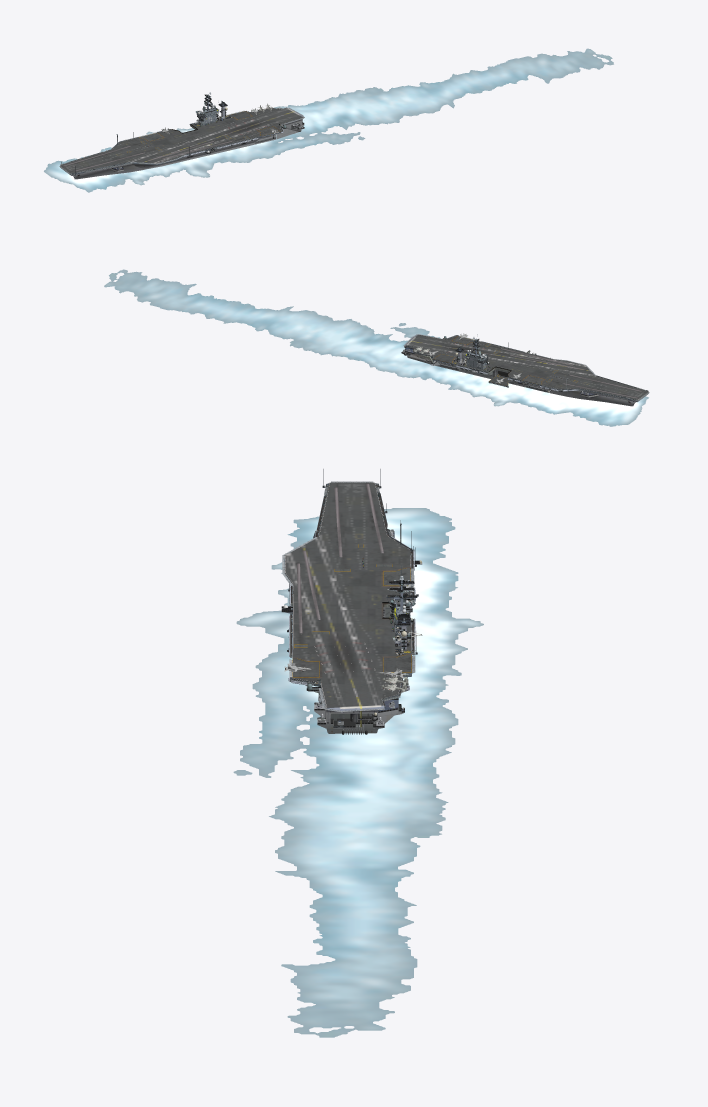
File: truman2.glb
The picture shows the model from 3 angles, top to bottom: view 1: azimuth 30°, elevation 25°; view 2: azimuth 150°, elevation 25°; view 3: azimuth 270°, elevation 25°; orthographic projection. The views are drawn at different scales.
Parts seen in each view (by area): view 1: Wake, Flightdeck.002, hull_2, hull_1, deck_n; view 2: Wake, Flightdeck.002, hull_1, hull_2, deck_n; view 3: Wake, Flightdeck.002, hull_3.
Boxes of the visible parts, x1,y1,x2,y2 form: Wake: (44,48,613,192); Flightdeck.002: (61,108,302,173); hull_2: (133,134,276,170); hull_1: (64,163,141,179); deck_n: (59,134,184,175); Wake: (104,269,648,426); Flightdeck.002: (406,334,647,399); hull_1: (566,390,646,406); hull_2: (404,350,566,396); deck_n: (540,359,649,401); Wake: (233,508,483,1037); Flightdeck.002: (285,482,411,707); hull_3: (306,599,413,734).
Size of the model in its own units: 872 by 68.21 by 169.
80 materials, 77 textured.
